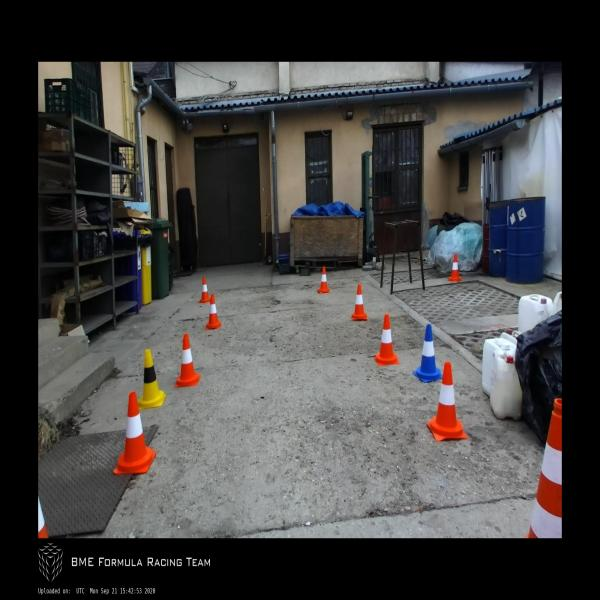blue_cone: (413, 324, 443, 382)
large_orange_cone: (524, 397, 562, 538)
orange_cone: (114, 392, 157, 474), (426, 363, 468, 441), (175, 334, 201, 388), (374, 314, 399, 365), (206, 293, 221, 330), (352, 284, 367, 320), (447, 254, 462, 282), (317, 266, 330, 294), (198, 277, 211, 303)
yellow_cone: (138, 349, 166, 409)
